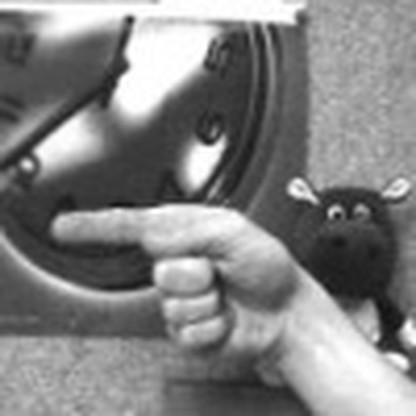g: (44, 190, 293, 368)
